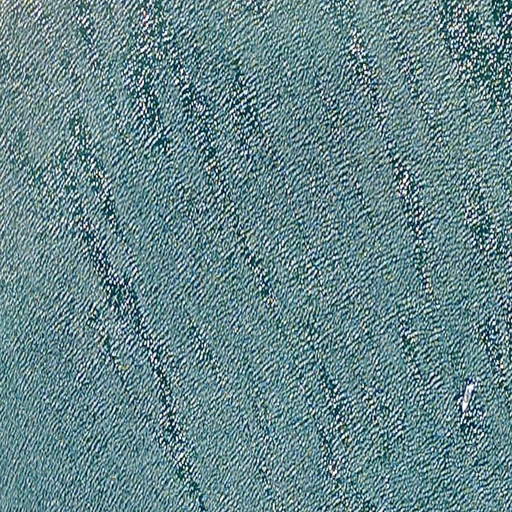ship: (459, 383, 477, 413)
